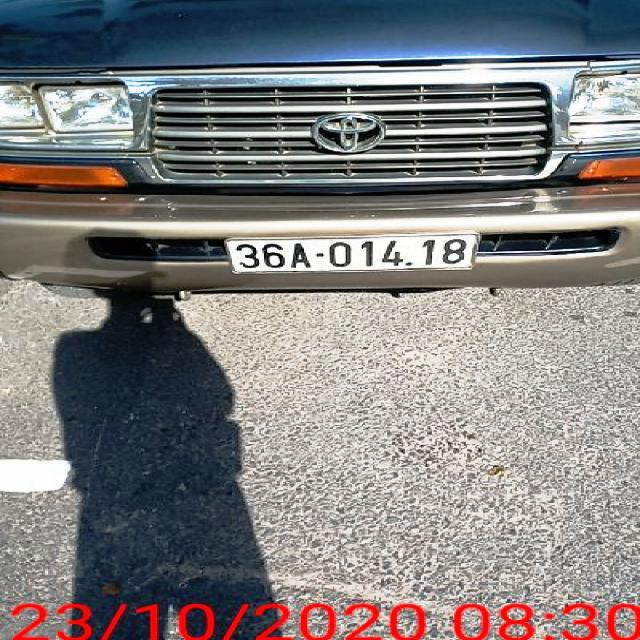license_plate: (229, 234, 479, 273)
